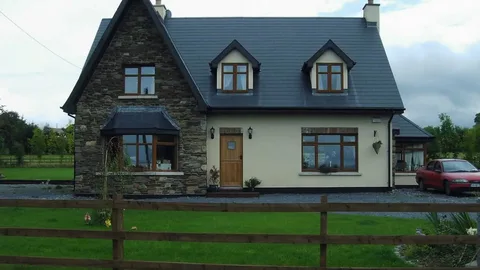private_hause: (79, 13, 400, 197)
